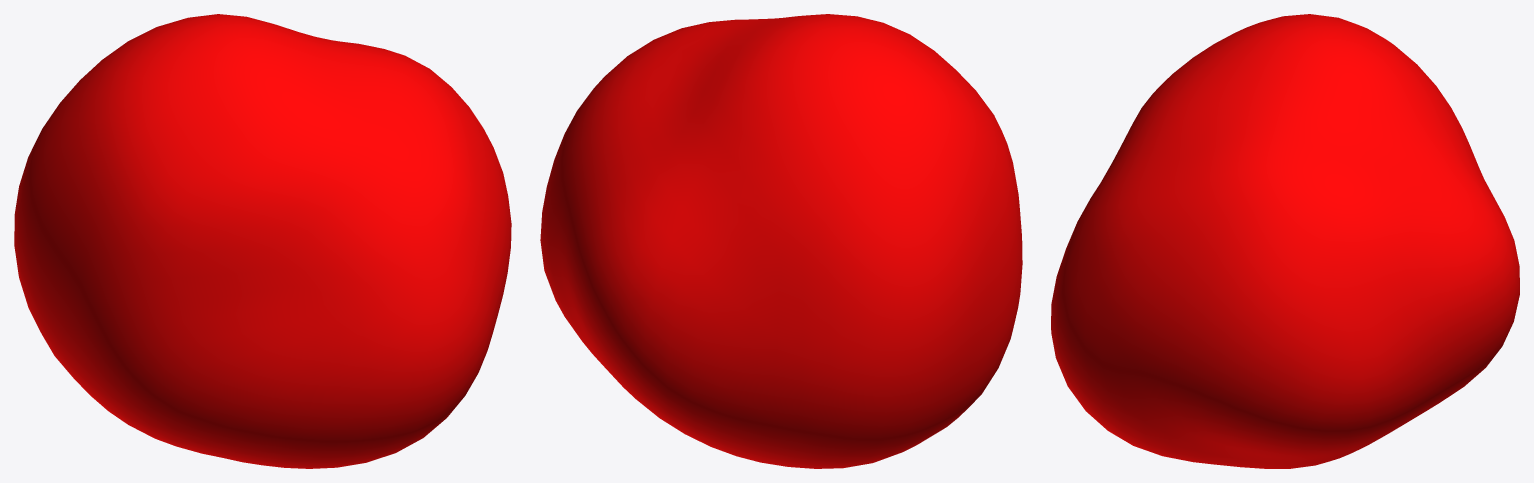
The model's file is vesicle_b.dae.
The picture shows the model from 3 angles, left to right: view 1: azimuth 30°, elevation 25°; view 2: azimuth 150°, elevation 25°; view 3: azimuth 270°, elevation 25°; orthographic projection. The views are drawn at different scales.
Parts seen in each view (by area): view 1: vesicle_b; view 2: vesicle_b; view 3: vesicle_b.
Part boxes in pixels (x1=…): vesicle_b: x1=14, y1=14, x2=511, y2=468; vesicle_b: x1=540, y1=14, x2=1022, y2=468; vesicle_b: x1=1051, y1=14, x2=1519, y2=468.
Bounding box in the file's own units: 424 × 396 × 422.
